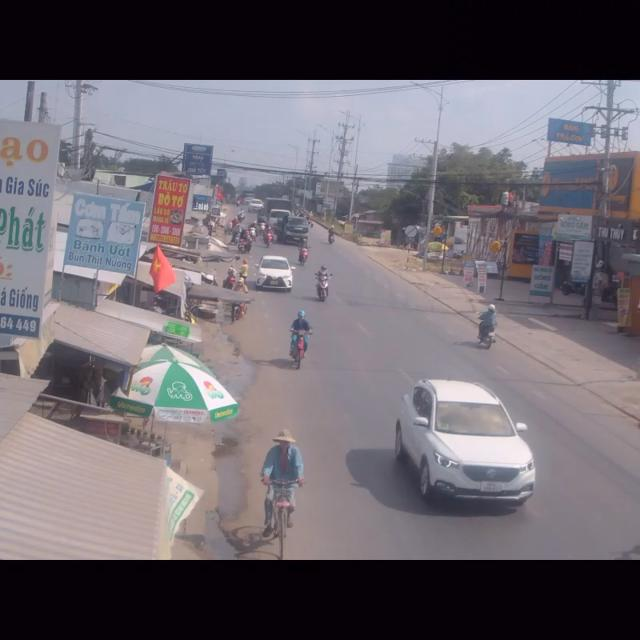car: (391, 379, 542, 517), (254, 252, 294, 292)
motorbike: (287, 308, 309, 372), (478, 306, 497, 348), (316, 260, 330, 302)
